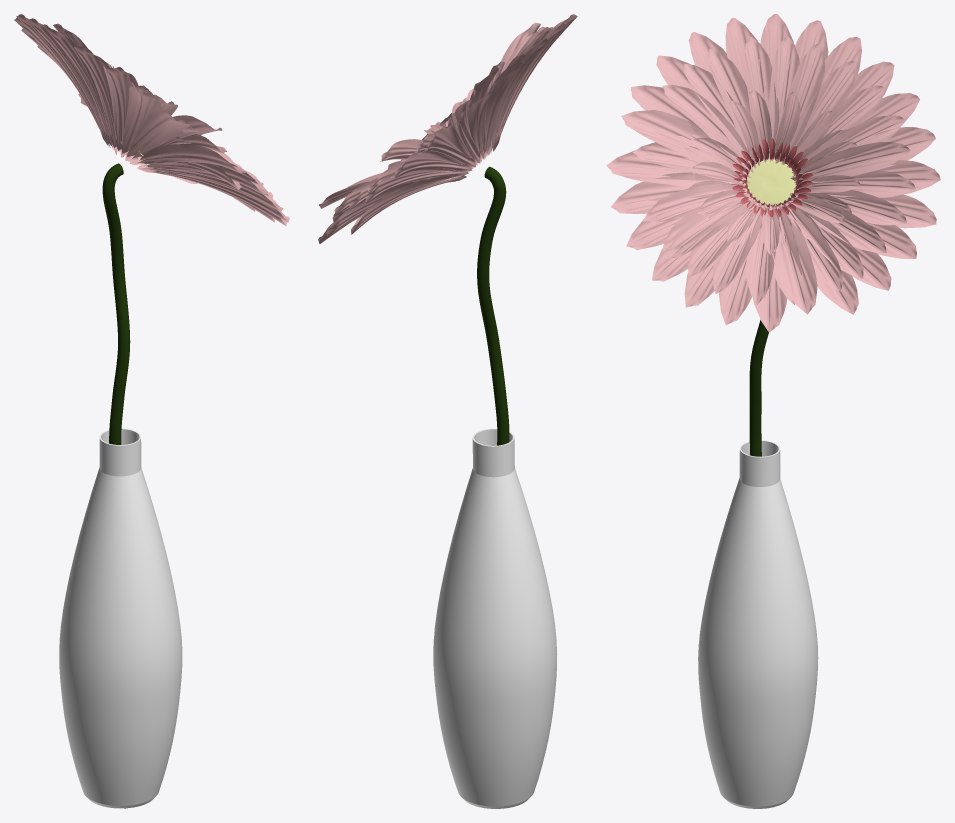
Rendered from gerbera cv.FBX.
3 renders of one model, left to right at view 1: azimuth 30°, elevation 25°; view 2: azimuth 150°, elevation 25°; view 3: azimuth 270°, elevation 25°, orthographic. The views are drawn at different scales.
Parts seen in each view (by area): view 1: Line013, Group024, Line015; view 2: Line013, Group024, Line015; view 3: Group024, Line013, Group023, Sphere012, Line015.
Boxes of the visible parts, x1,y1,x2,y2 form: Line013: [59, 428, 182, 808]; Group024: [14, 14, 289, 225]; Line015: [102, 163, 130, 444]; Line013: [433, 428, 557, 808]; Group024: [318, 14, 577, 243]; Line015: [477, 166, 509, 445]; Group024: [606, 14, 940, 332]; Line013: [698, 440, 818, 808]; Group023: [732, 138, 812, 217]; Sphere012: [741, 157, 796, 207]; Line015: [749, 320, 768, 456].
Bounding box in the file's own units: 420 × 1462 × 589.
